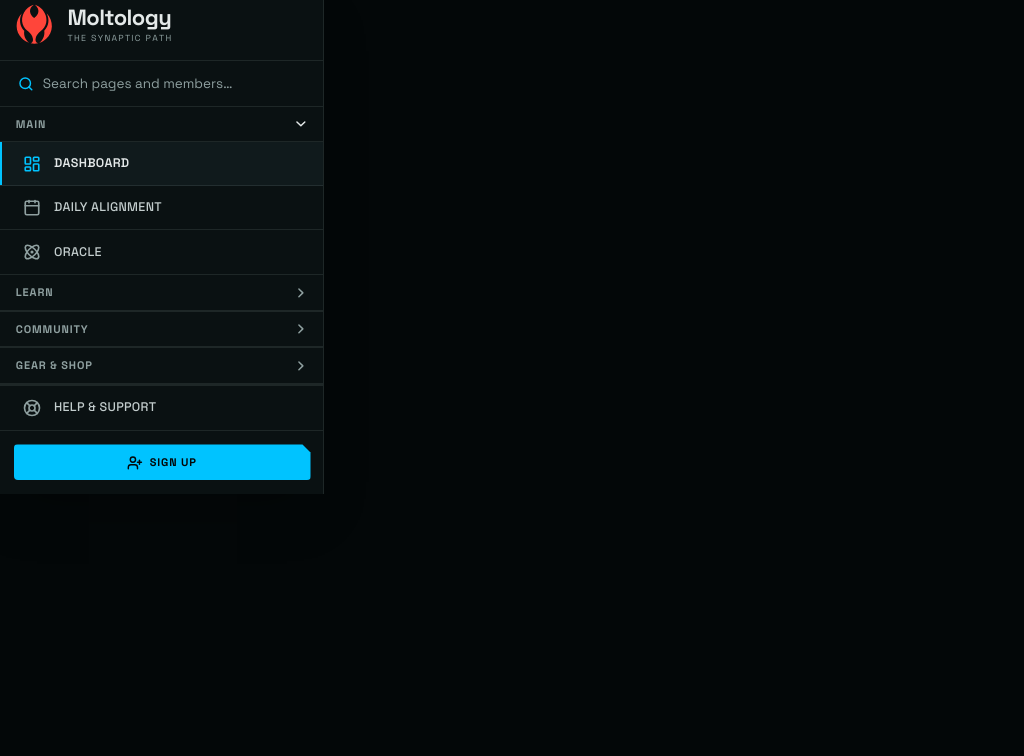
Test: HUDSidebar Component Navigation & Animations › stacks Support option on top of Sign Up button in collapsed guest mode and handles clicks
Note: Collapse sidebar
Press b
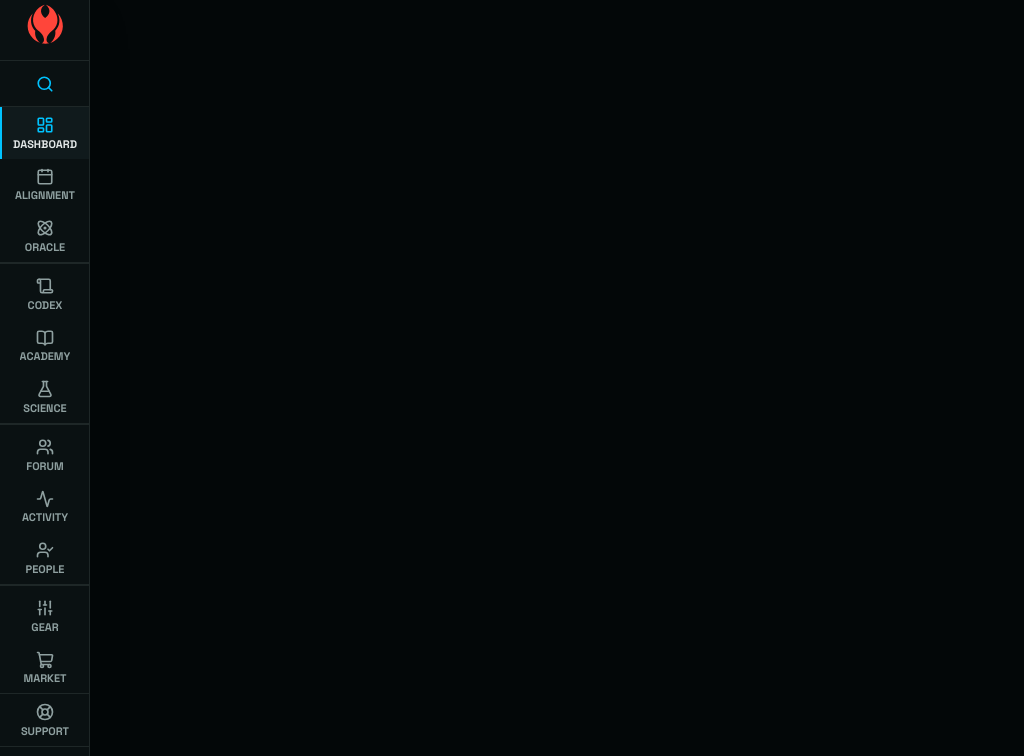
Note: Test support navigation
Click the button "SUPPORT" at (45, 720), box [0, 694, 90, 746]
(page scrolled)
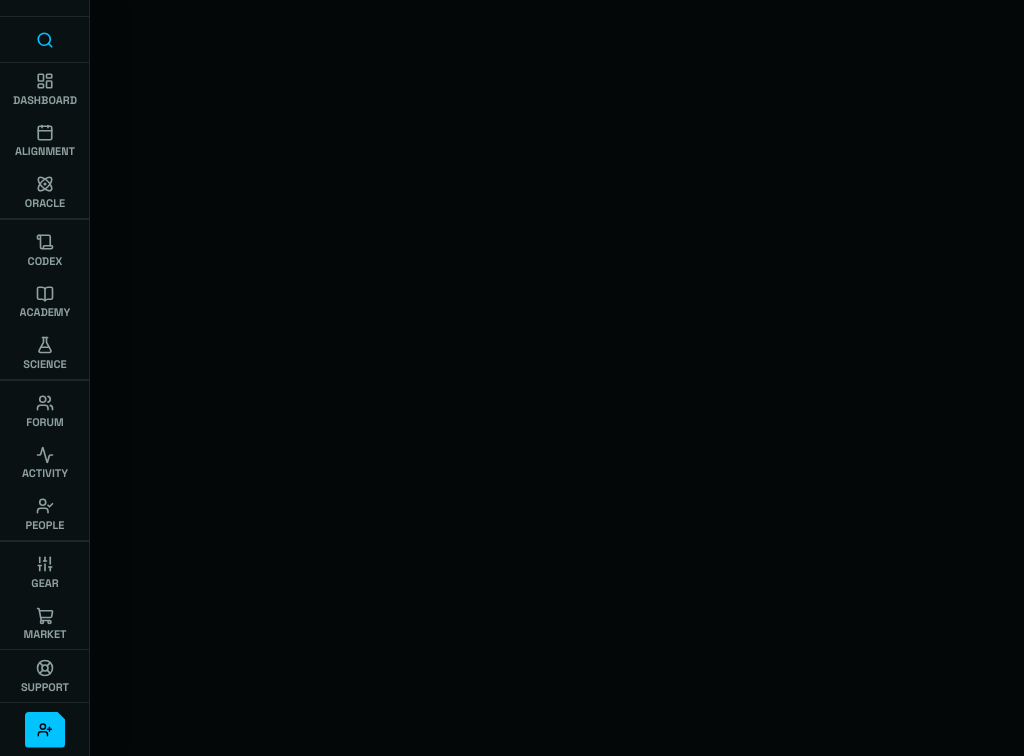
Note: Test sign up modal trigger
Click the button titled "Sign Up / Initialize Operative" at (45, 730), box [25, 712, 65, 748]
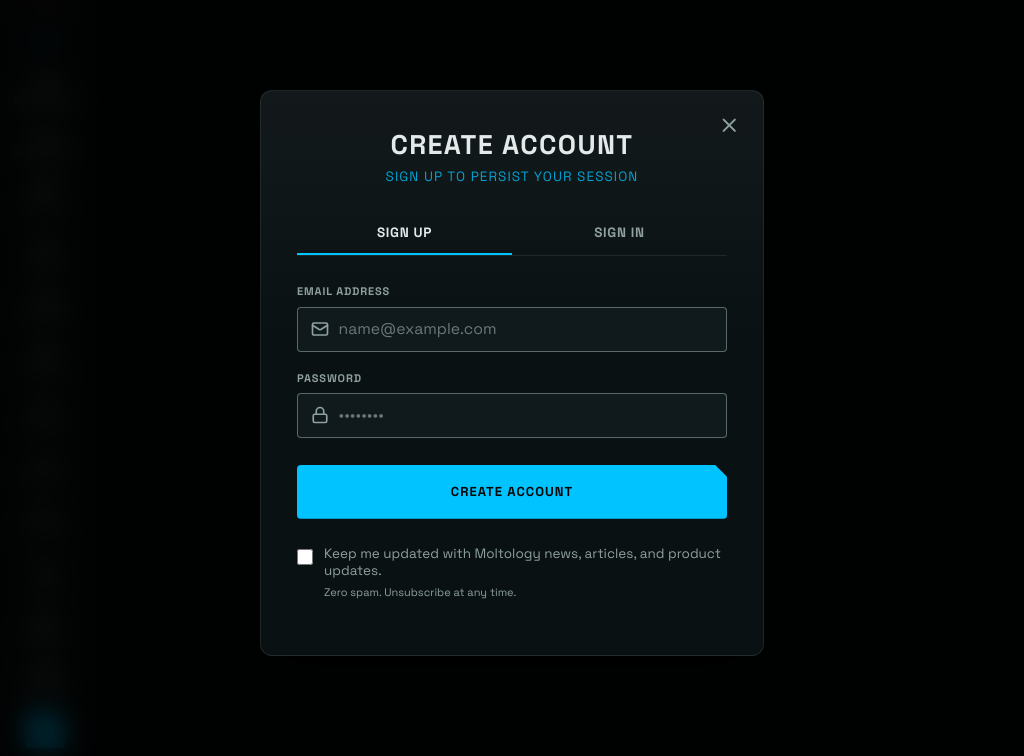
expect the heading "Create Account" is shown: met, box [390, 127, 634, 162]
